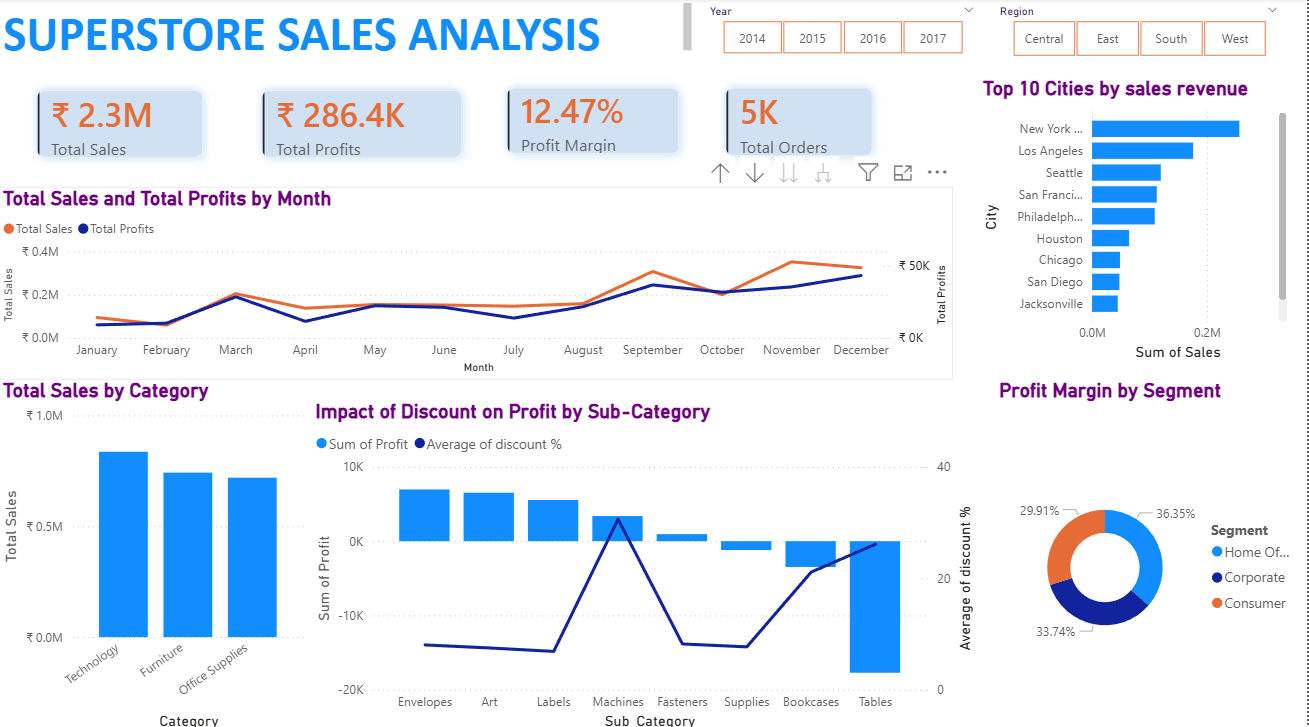

The dashboard page shown, as its layout file describes it:
{"tool":"powerbi","page":{"name":"SuperStore","canvas":[1280,720],"ordinal":0},"visuals":[{"type":"cardVisual","fields":{"Data":["order details.Total Profits"]},"box":[229.9,61.1,253.1,124.7],"z":0},{"type":"cardVisual","fields":{"Data":["order details.Profit Margin"]},"box":[469.6,58.7,226.2,123.5],"z":1000},{"type":"cardVisual","fields":{"Data":["orders.Total Orders"]},"box":[683.6,58.7,201.8,126],"z":2000},{"type":"cardVisual","fields":{"Data":["order details.Total Sales"]},"box":[9.8,61.1,220.1,124.7],"z":3000},{"type":"textbox","box":[0,0,683.4,61.7],"z":4000},{"type":"columnChart","fields":{"Category":["products.Category"],"Y":["order details.Total Sales"]},"box":[0,373,305.7,347.3],"z":5000},{"type":"donutChart","fields":{"Category":["customers.Segment"],"Y":["order details.Profit Margin"]},"box":[974.3,373.2,306,347.2],"z":6000},{"type":"clusteredBarChart","title":"Top 10 Cities by sales revenue","fields":{"Category":["Location.City"],"Y":["Sum(order details.Sales)"]},"box":[959.2,76.8,307.4,282.7],"z":7000},{"type":"lineChart","fields":{"Category":["orders.OrderDate.Variation.Date Hierarchy.Year","orders.OrderDate.Variation.Date Hierarchy.Month"],"Y":["order details.Total Sales"],"Y2":["order details.Total Profits"]},"box":[0,185.2,934.5,188],"z":8000},{"type":"slicer","fields":{"Values":["orders.OrderDate.Variation.Date Hierarchy.Year"]},"box":[683.6,1.2,283.7,59.9],"z":9000},{"type":"slicer","fields":{"Values":["Location.Region"]},"box":[967.3,1.2,297.1,62.4],"z":10000},{"type":"lineStackedColumnComboChart","title":"Impact of Discount on Profit by Sub-Category","fields":{"Category":["products.Sub_Category"],"Y":["Sum(order details.Profit)"],"Y2":["Avg(order details.discount % )"]},"box":[306,393.8,653.2,326.6],"z":11000}]}

Visuals, with their boxes in screenshot pixels (x1, y1, x2, y2), scaled from the page's 1280x720 canvas onto the 1309x727 screenshot:
cardVisual - order details.Total Profits: select_region(235, 62, 494, 188)
cardVisual - order details.Profit Margin: select_region(480, 59, 712, 184)
cardVisual - orders.Total Orders: select_region(699, 59, 905, 186)
cardVisual - order details.Total Sales: select_region(10, 62, 235, 188)
textbox: select_region(0, 0, 699, 62)
columnChart - products.Category x order details.Total Sales: select_region(0, 377, 313, 726)
donutChart - customers.Segment x order details.Profit Margin: select_region(996, 377, 1308, 726)
"Top 10 Cities by sales revenue" clusteredBarChart: select_region(981, 78, 1295, 363)
lineChart - orders.OrderDate.Variation.Date Hierarchy.Year x orders.OrderDate.Variation.Date Hierarchy.Month: select_region(0, 187, 956, 377)
slicer - orders.OrderDate.Variation.Date Hierarchy.Year: select_region(699, 1, 989, 62)
slicer - Location.Region: select_region(989, 1, 1293, 64)
"Impact of Discount on Profit by Sub-Category" lineStackedColumnComboChart: select_region(313, 398, 981, 726)
